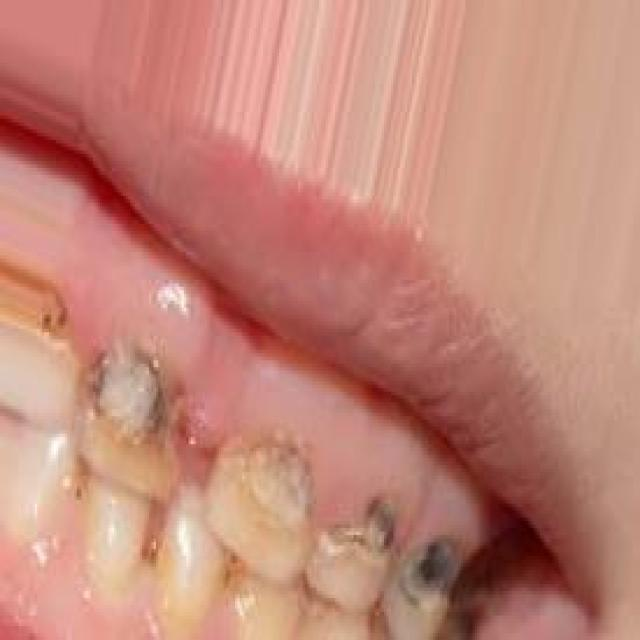caries: (66, 334, 194, 495), (223, 417, 324, 546), (310, 474, 401, 597), (394, 513, 473, 640)
